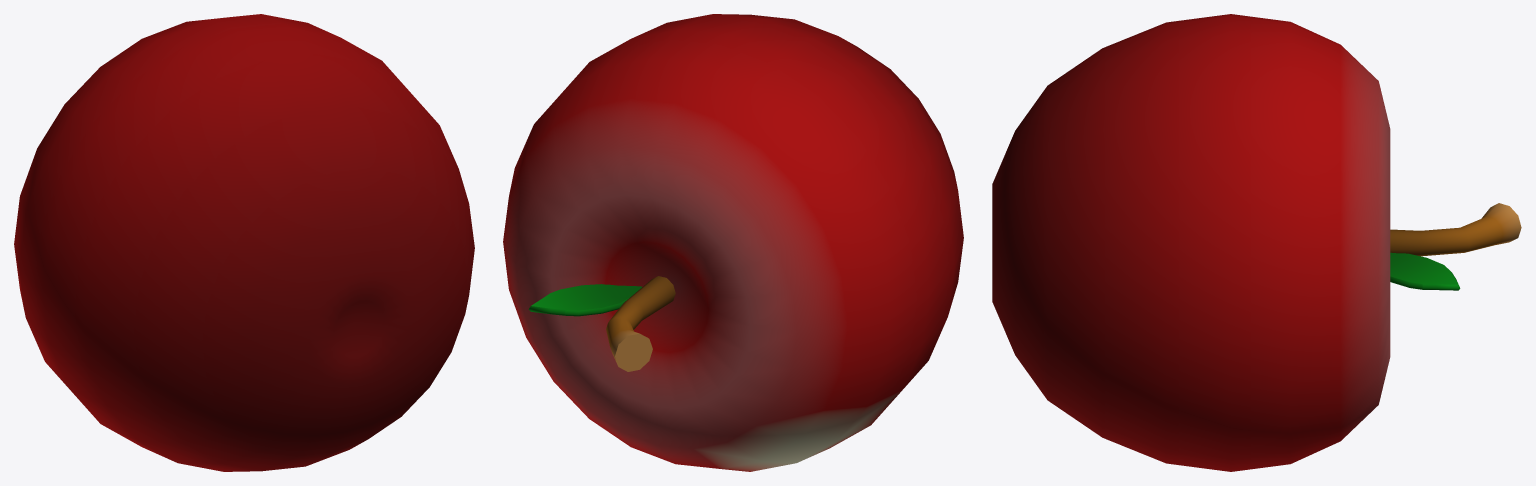
The model's file is Snake_Apple.FBX.
3 views of the same model, side by side, from view 1: azimuth 30°, elevation 25°; view 2: azimuth 150°, elevation 25°; view 3: azimuth 270°, elevation 25° (orthographic).
Parts seen in each view (by area): view 1: Sphere001; view 2: Sphere001; view 3: Sphere001.
Boxes of the visible parts, x1,y1,x2,y2 form: Sphere001: [14, 14, 474, 471]; Sphere001: [503, 14, 963, 471]; Sphere001: [992, 14, 1521, 471].
Size of the model in its own units: 144 by 144 by 165.
